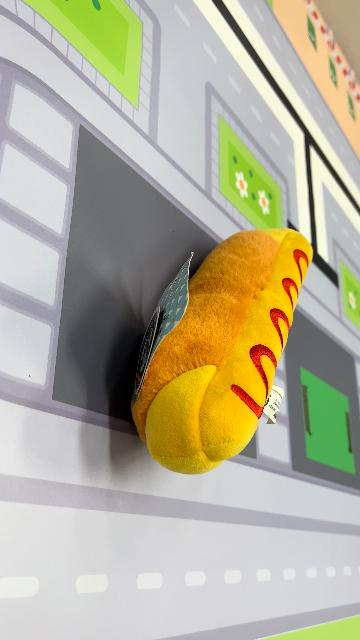hotdog: (130, 227, 314, 477)
